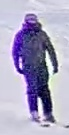skier: (12, 13, 69, 129)
